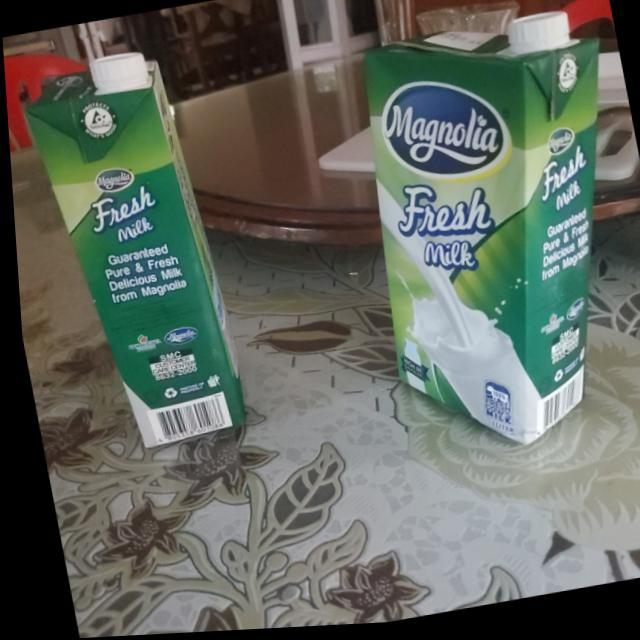milk: (329, 6, 640, 467), (9, 38, 249, 466)
